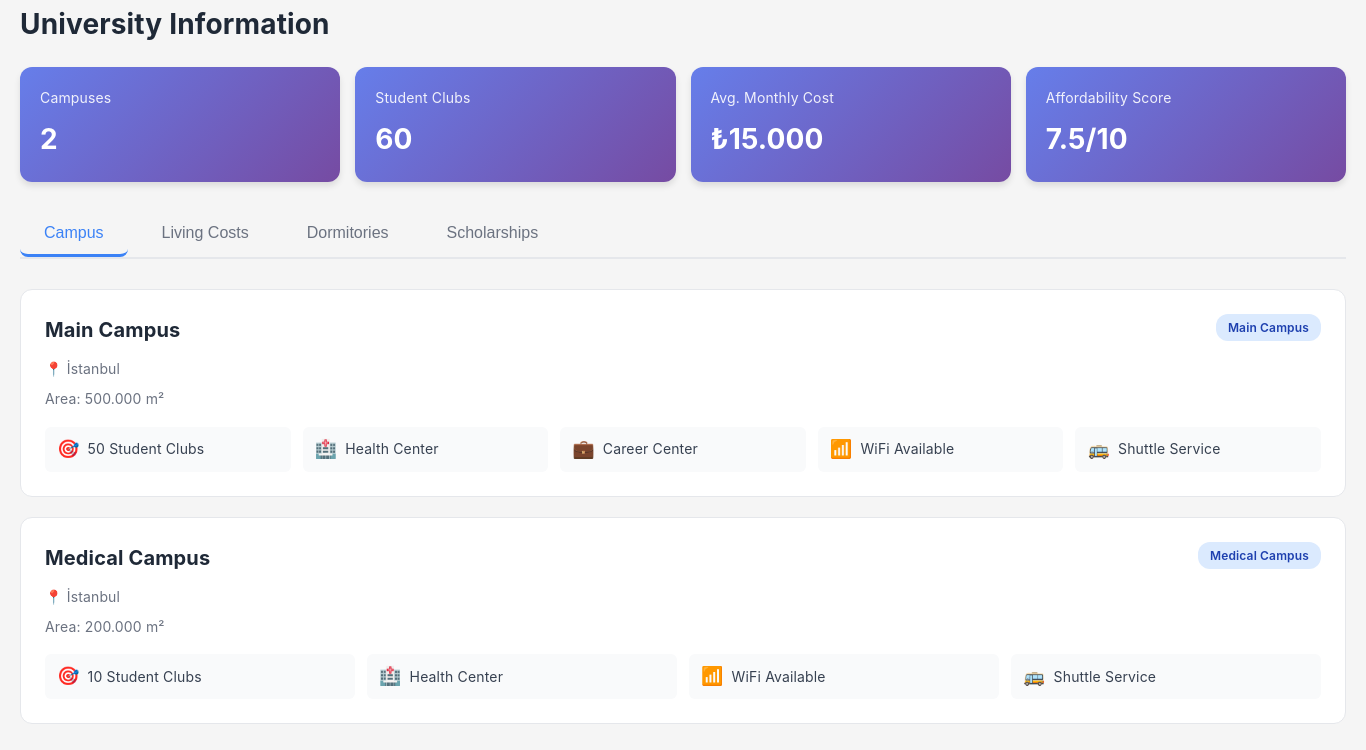
Test: UniversityInfo - Living Costs Tab › displays total monthly budget
What coordinates should you click on to do the following:
click the button "Living Costs"
I would click on:
 (205, 234)
Its box is [138, 212, 273, 257].
(page scrolled)
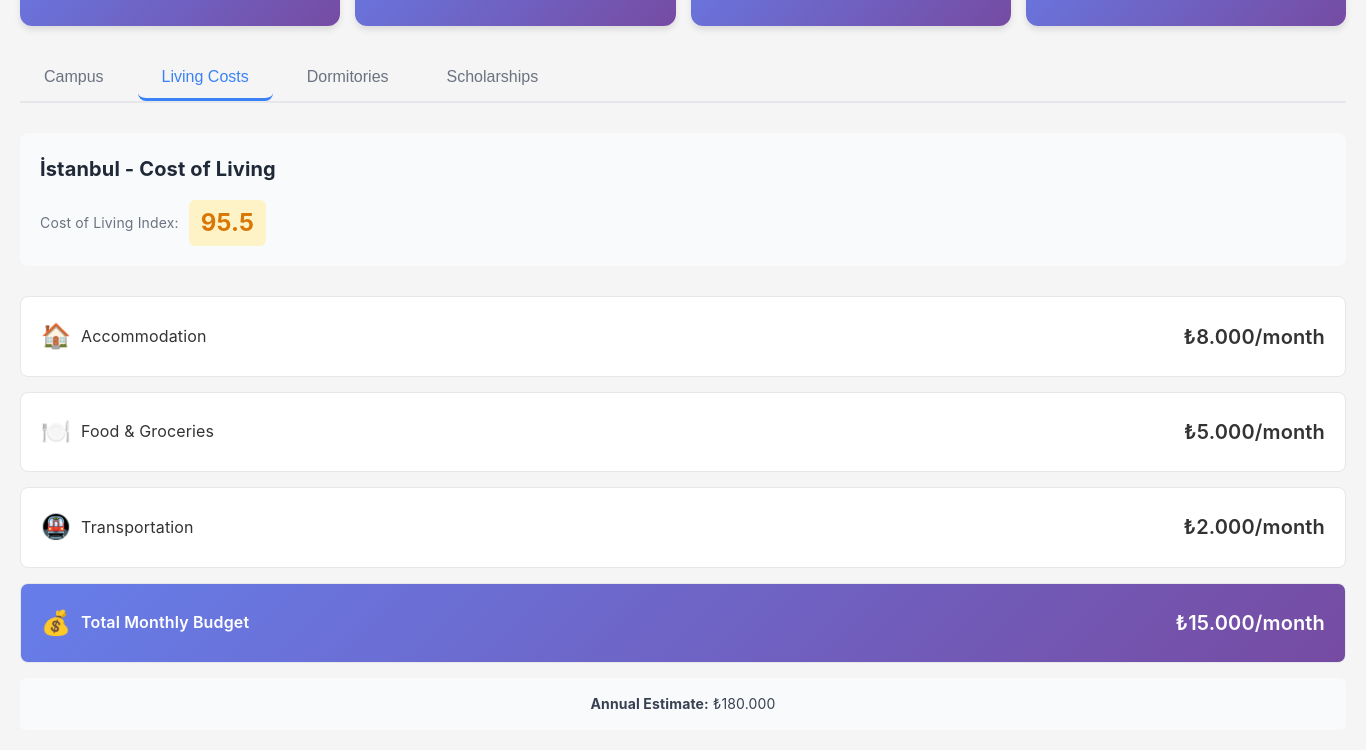
Result: the text "₺15.000/month" is shown at [1176, 607, 1325, 639]
